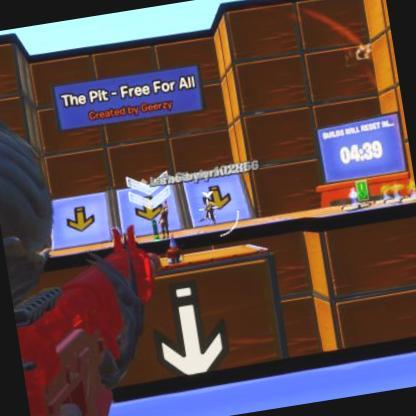person: (155, 202, 172, 236), (202, 202, 218, 228)
